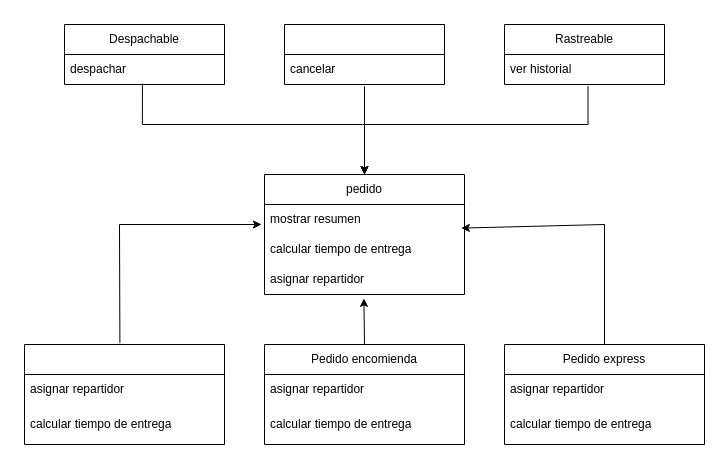
The diagram is 722 pixels wide and 462 high, and some of its shapes have lost their labels. The shapes that lost their labels are listed below. From the top down, each one's box as (x1, y1, x2, y2) in pixels, then its label:
(284, 24, 444, 84): cancelable
(24, 344, 224, 444): Pedido de comida
